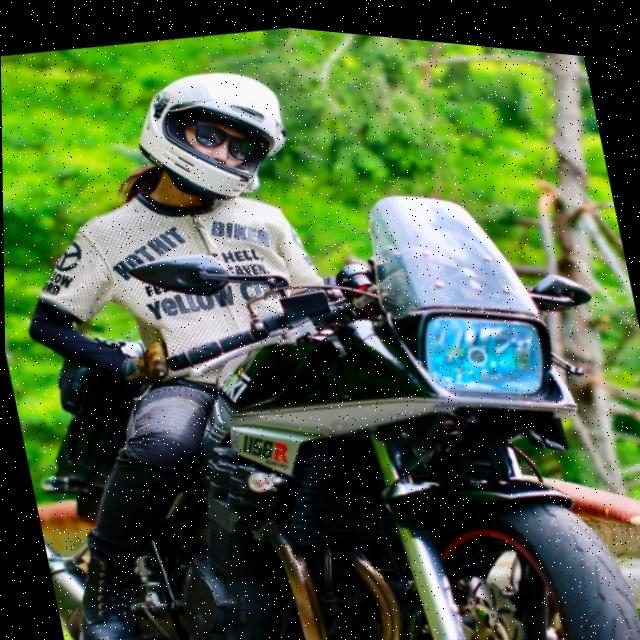helmet: (119, 45, 302, 221)
